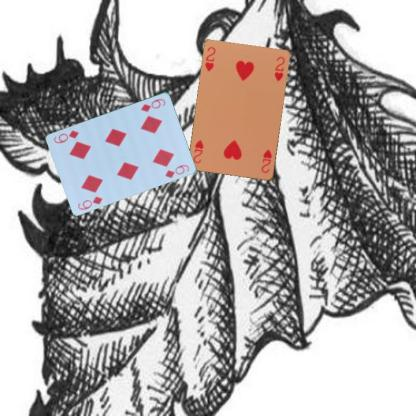2h: (203, 44, 217, 73), (259, 147, 273, 174)
6d: (75, 193, 104, 211), (139, 96, 167, 113)
